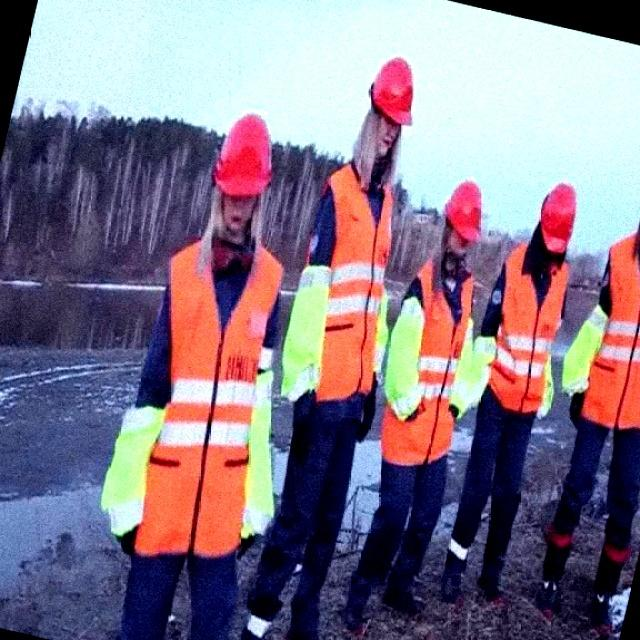helmet: (212, 112, 286, 206), (362, 54, 422, 128), (538, 178, 586, 249), (442, 178, 491, 246)
safety_vest: (130, 234, 270, 559), (383, 220, 483, 480), (308, 147, 408, 406), (492, 240, 577, 416), (587, 228, 640, 436)
